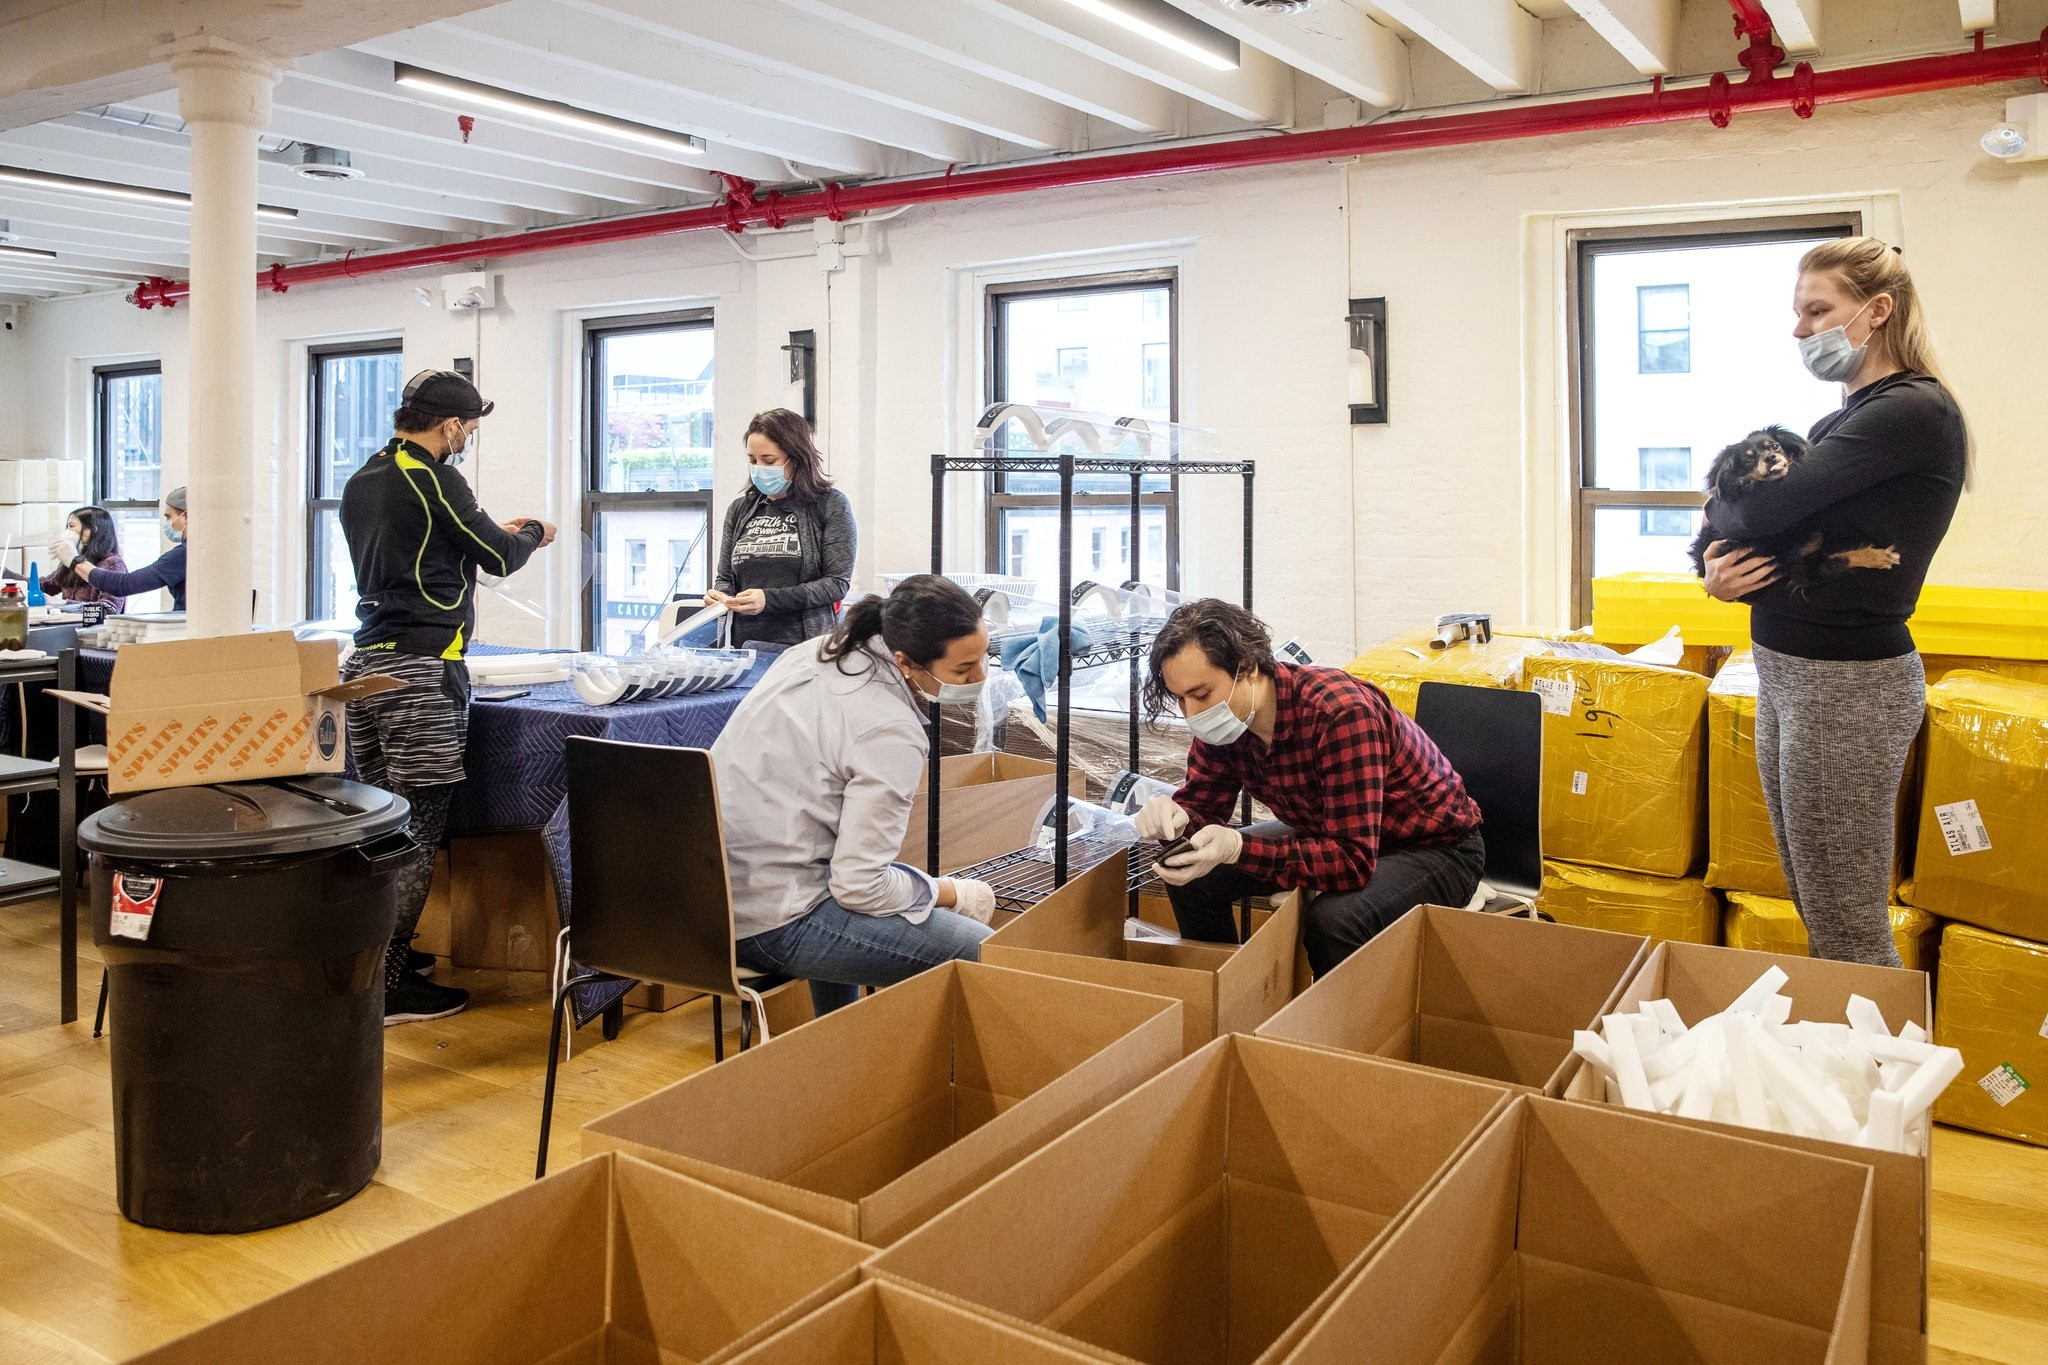face_with_mask: (1789, 236, 1906, 384), (1159, 604, 1266, 756), (882, 574, 992, 711), (742, 409, 809, 504)
